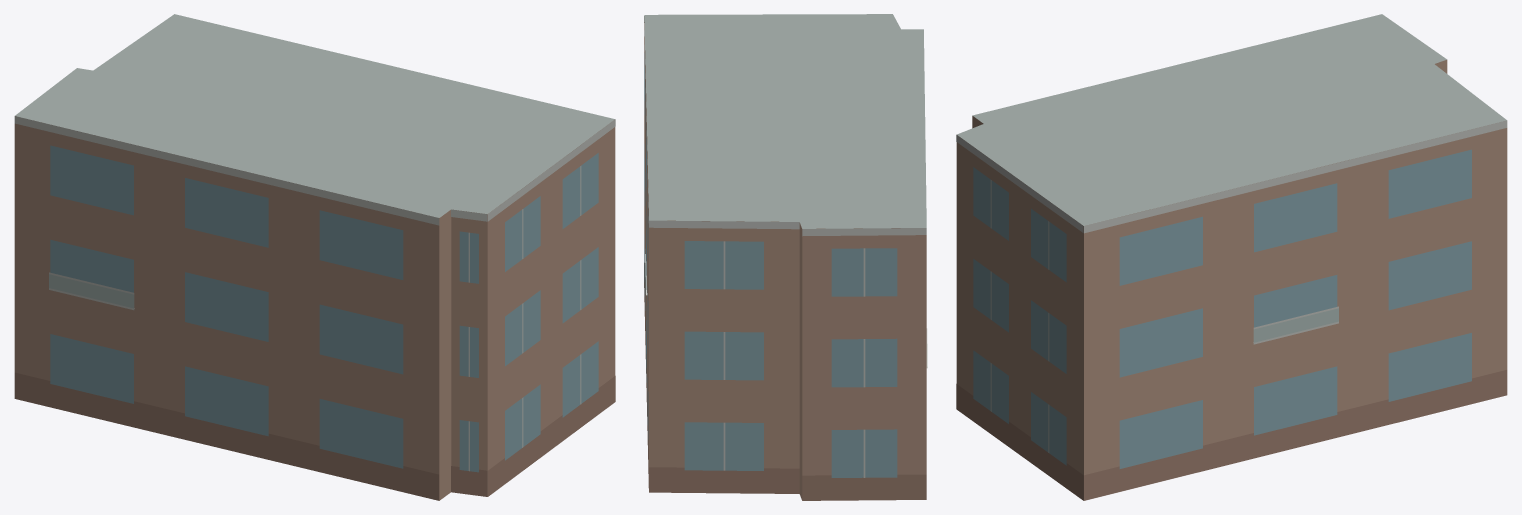
The model's file is survey-upis-32693595.glb.
3 renders of one model, left to right at view 1: azimuth 30°, elevation 25°; view 2: azimuth 150°, elevation 25°; view 3: azimuth 270°, elevation 25°, orthographic. The views are drawn at different scales.
Parts seen in each view (by area): view 1: survey-upis-32693595.tmp; view 2: survey-upis-32693595.tmp; view 3: survey-upis-32693595.tmp.
Boxes of the visible parts, box(x1,y1,x2,y2) form: survey-upis-32693595.tmp: box(14, 14, 615, 500); survey-upis-32693595.tmp: box(644, 14, 927, 500); survey-upis-32693595.tmp: box(956, 14, 1507, 500).
Bounding box in the file's own units: 15.15 × 9.15 × 16.63.
